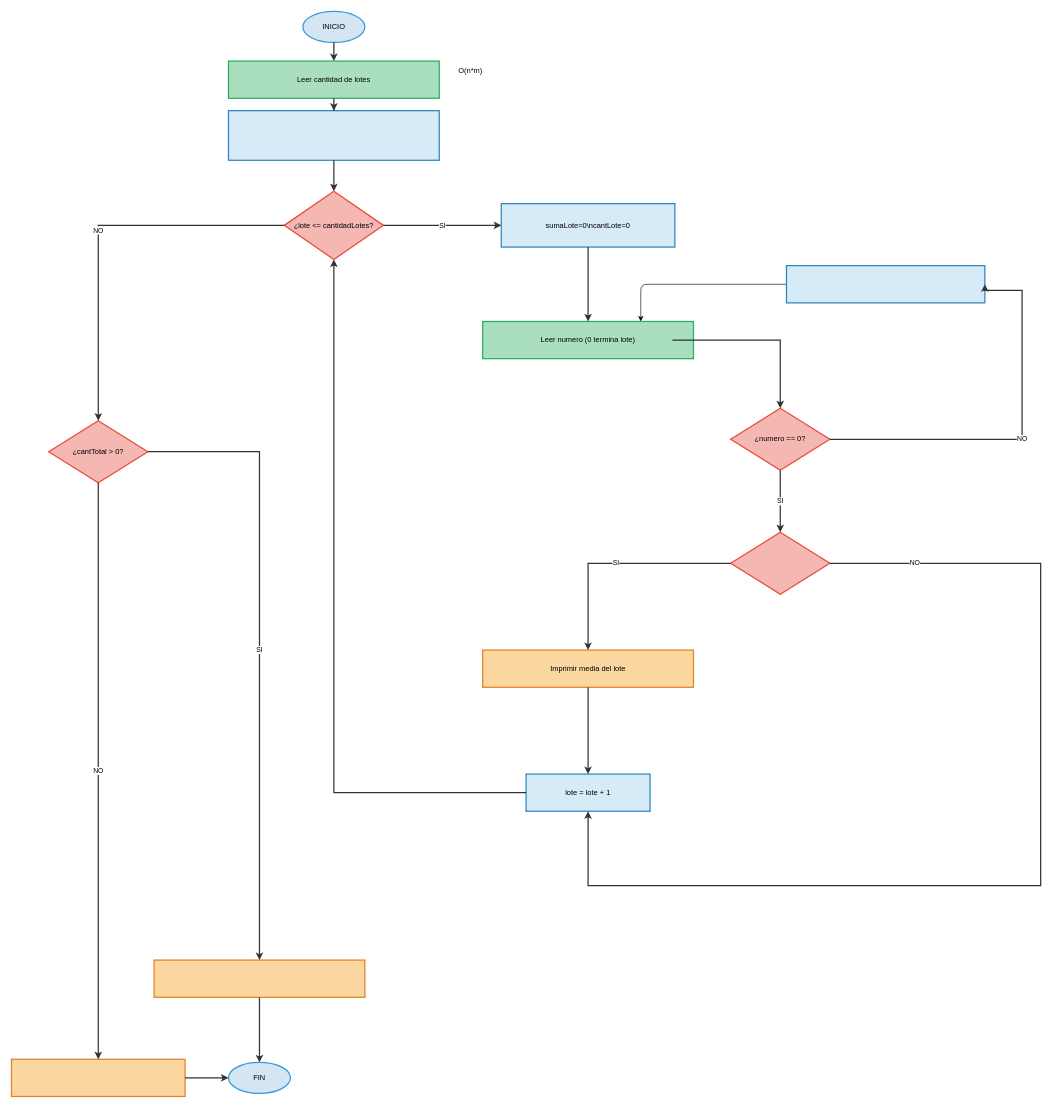
Image size: 1056x1107. Some labels were removed from this diagram. The box of each missing label's shape, as (x1, y1, x2, y2) in pixels:
Acumular en lote y total: (786, 265, 985, 303)
Imprimir media total: (153, 959, 365, 998)
Imprimir sin datos: (11, 1058, 185, 1097)
sumaTotal=0\ncantTotal=0\nlote=1: (228, 110, 440, 161)
¿cantLote > 0?: (730, 531, 830, 595)
